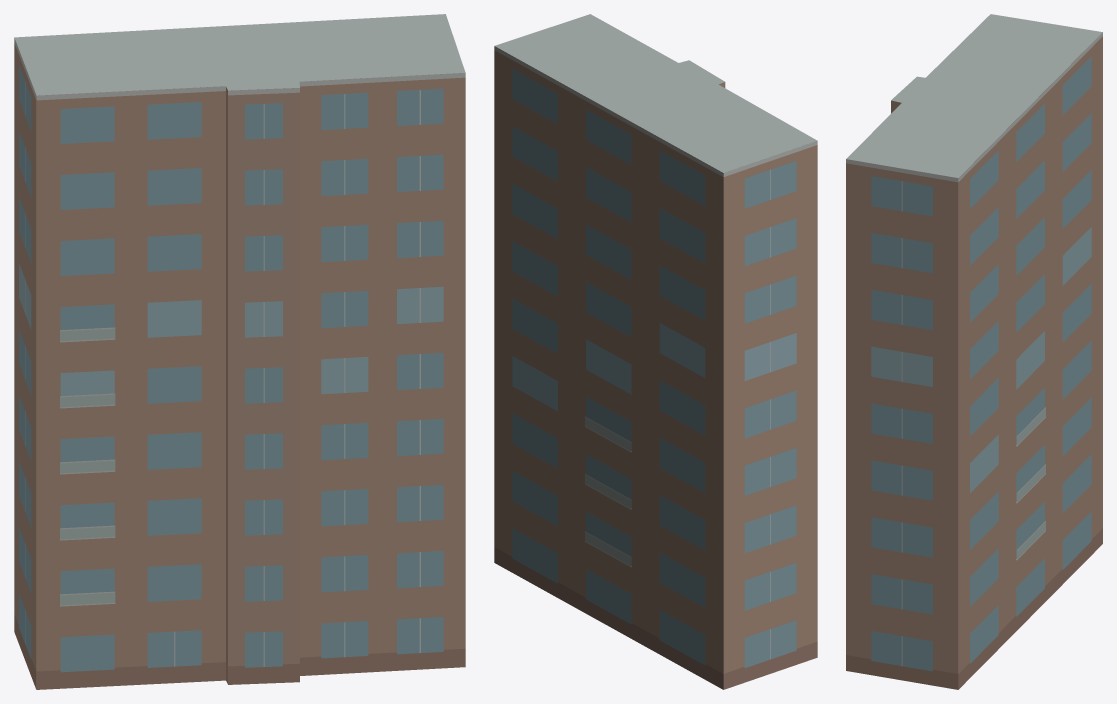
The model's file is survey-upis-32868906.glb.
The picture shows the model from 3 angles, left to right: view 1: azimuth 30°, elevation 25°; view 2: azimuth 150°, elevation 25°; view 3: azimuth 270°, elevation 25°; orthographic projection. The views are drawn at different scales.
Parts seen in each view (by area): view 1: survey-upis-32868906.tmp; view 2: survey-upis-32868906.tmp; view 3: survey-upis-32868906.tmp.
Boxes of the visible parts, box(x1,y1,x2,y2) form: survey-upis-32868906.tmp: box(14, 14, 465, 689); survey-upis-32868906.tmp: box(494, 14, 817, 689); survey-upis-32868906.tmp: box(846, 14, 1102, 689).
Bounding box in the file's own units: 20.57 × 29.9 × 13.61.
